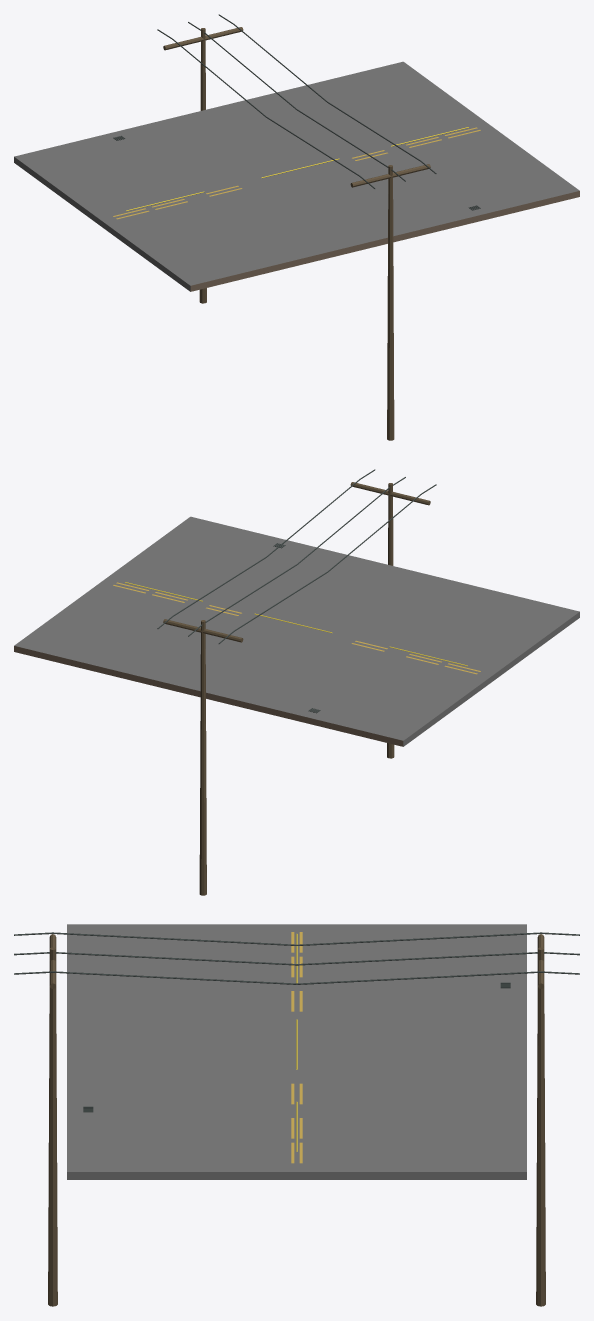
Rendered from XBLD080.glb.
3 renders of one model, top to bottom at view 1: azimuth 30°, elevation 25°; view 2: azimuth 150°, elevation 25°; view 3: azimuth 270°, elevation 25°, orthographic. The views are drawn at different scales.
Visible parts, largest first — view 1: RD73 | archived geometry, 고속도로와 전선 B, Fitted street and landscape details; view 2: RD73 | archived geometry, 고속도로와 전선 B, Fitted street and landscape details; view 3: RD73 | archived geometry, 고속도로와 전선 B, Fitted street and landscape details.
Boxes of the visible parts, x1,y1,x2,y2 form: RD73 | archived geometry: [14, 61, 579, 291]; 고속도로와 전선 B: [157, 14, 436, 440]; Fitted street and landscape details: [113, 127, 480, 219]; RD73 | archived geometry: [14, 516, 579, 746]; 고속도로와 전선 B: [157, 469, 436, 895]; Fitted street and landscape details: [113, 543, 480, 713]; RD73 | archived geometry: [67, 924, 526, 1179]; 고속도로와 전선 B: [14, 932, 579, 1306]; Fitted street and landscape details: [83, 932, 510, 1163].
Bounding box in the file's own units: 16.56 × 11.1 × 16.
